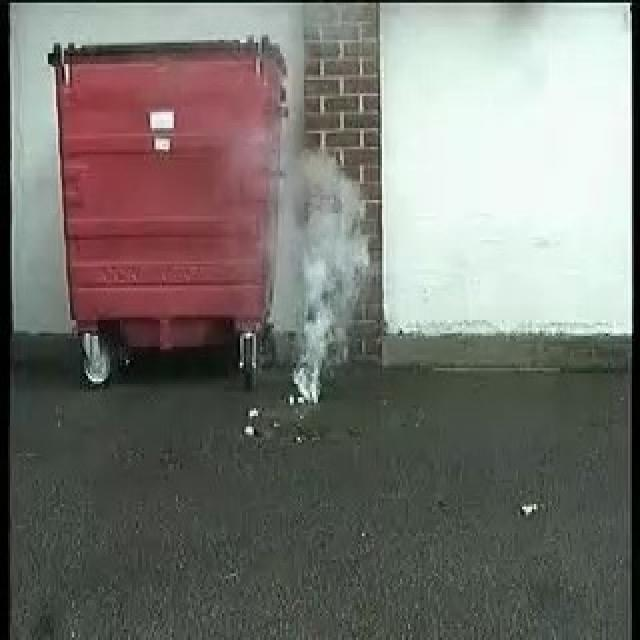smoke: (275, 139, 368, 401)
